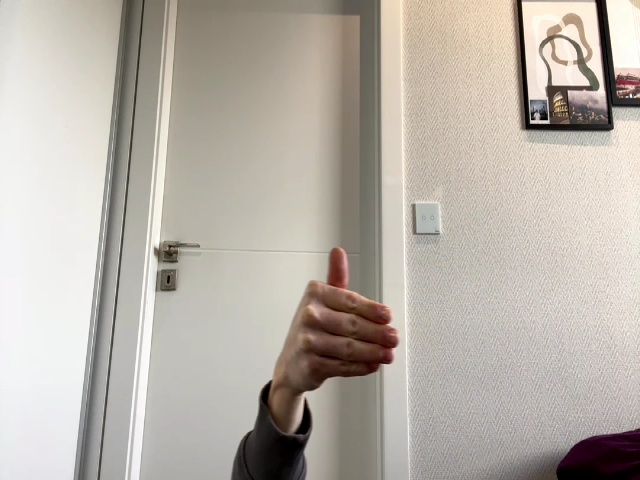M: (285, 247, 399, 391)
